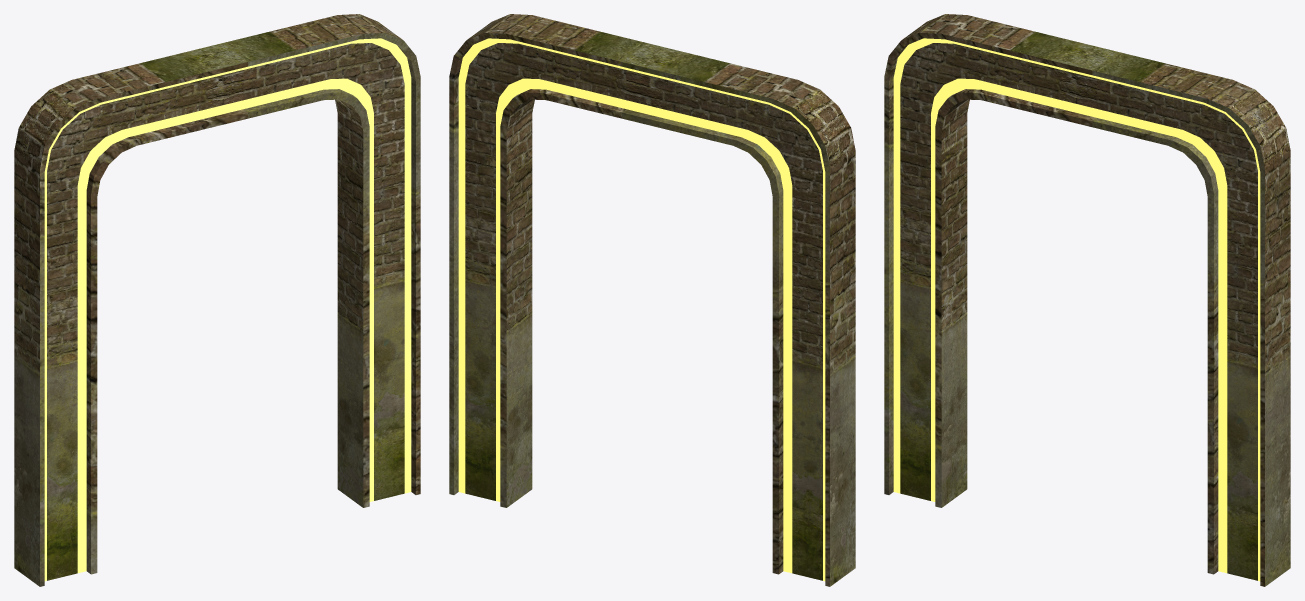
The model's file is Door_Warp.fbx.
The picture shows the model from 3 angles, left to right: view 1: azimuth 30°, elevation 25°; view 2: azimuth 150°, elevation 25°; view 3: azimuth 330°, elevation 25°; orthographic projection.
Parts seen in each view (by area): view 1: Cube.002_dmg; view 2: Cube.002_dmg; view 3: Cube.002_dmg.
Part boxes in pixels (box(x1,y1,x2,y2)): Cube.002_dmg: box(14, 14, 420, 586); Cube.002_dmg: box(449, 14, 855, 586); Cube.002_dmg: box(884, 14, 1290, 586).
Size of the model in its own units: 143 by 170 by 16.71.
